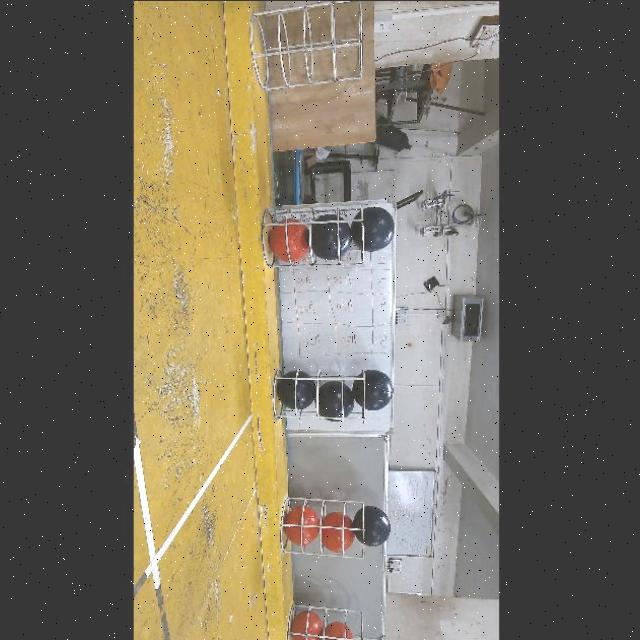P: (351, 205, 396, 251), (312, 212, 354, 260), (353, 368, 395, 410), (277, 369, 317, 410), (353, 505, 391, 546), (318, 379, 355, 421)
R: (269, 222, 310, 261), (284, 502, 320, 543), (323, 510, 355, 550), (292, 610, 324, 640), (325, 620, 354, 640)
S: (250, 0, 374, 98), (256, 198, 368, 278), (276, 487, 372, 565), (272, 363, 373, 427), (285, 598, 365, 640)
